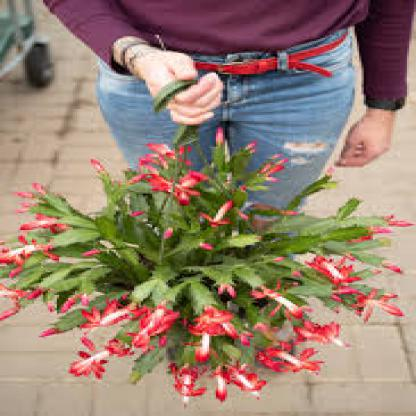Aglonema: (7, 16, 393, 189)
